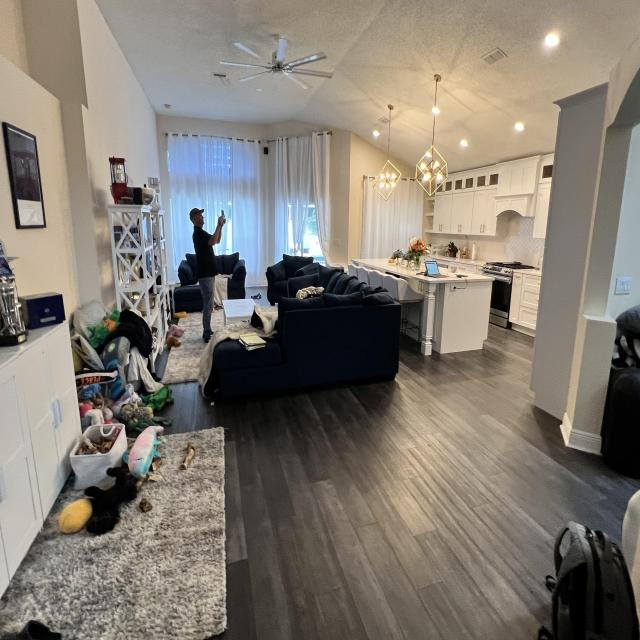Appliance_Oven: (482, 262, 534, 329)
Cabinet_Glass: (436, 169, 500, 192), (539, 154, 554, 184)
Cabinet_Shaker: (0, 322, 81, 600), (432, 189, 495, 235), (509, 270, 540, 330), (533, 183, 551, 240), (436, 260, 484, 275)
Countertop_Solid_Surface: (393, 267, 493, 283), (428, 254, 477, 262), (359, 258, 390, 267), (517, 269, 536, 273)
